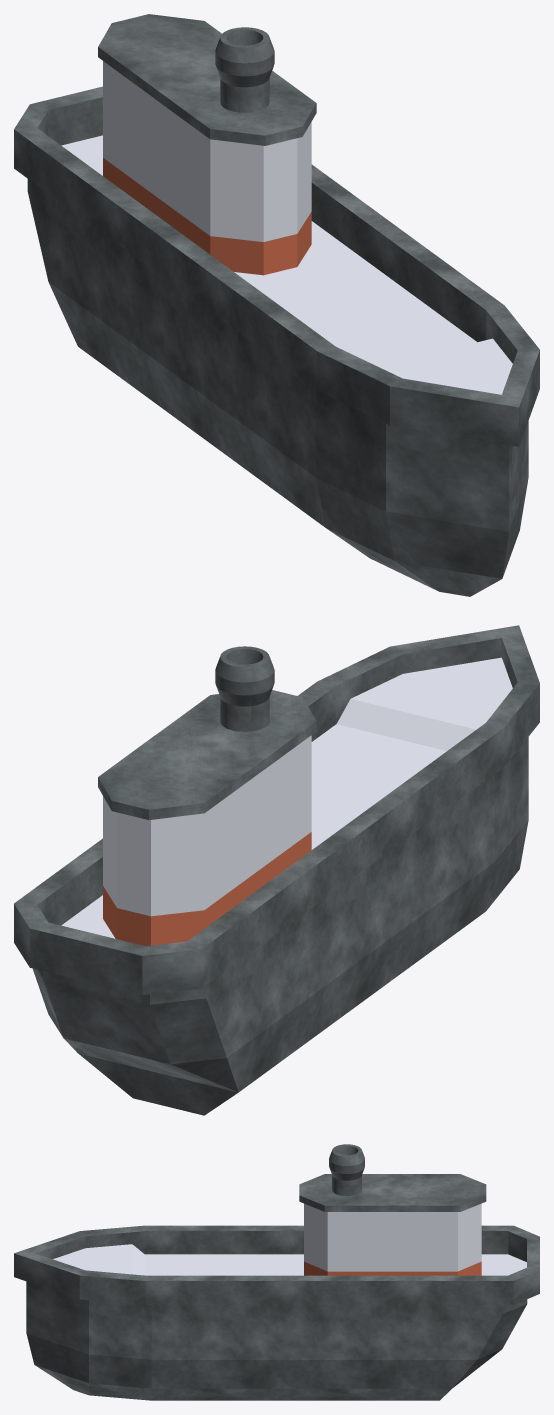
The model's file is Ship.obj.
3 renders of one model, top to bottom at view 1: azimuth 30°, elevation 25°; view 2: azimuth 150°, elevation 25°; view 3: azimuth 270°, elevation 25°, orthographic. The views are drawn at different scales.
Parts seen in each view (by area): view 1: hull, hull_front, hut_hexagon, rail, rail_frontDeck, hut_hexagonRoof, hull_backEdge, rail_backEdge, detail_chimneyShort; view 2: hull, hull_backEdge, hut_hexagon, rail_frontDeck, rail_backEdge, hut_hexagonRoof, rail, hull_front, detail_chimneyShort; view 3: hull, rail, hull_front, hut_hexagon, hull_backEdge, rail_frontDeck, hut_hexagonRoof, rail_backEdge, detail_chimneyShort.
Boxes of the visible parts, x1,y1,x2,y2 form: hull: [110, 221, 476, 527]; hull_front: [316, 390, 528, 596]; hut_hexagon: [103, 61, 311, 275]; rail: [100, 164, 504, 389]; rail_frontDeck: [317, 305, 539, 446]; hut_hexagonRoof: [98, 14, 316, 145]; hull_backEdge: [27, 135, 118, 376]; rail_backEdge: [14, 86, 118, 231]; detail_chimneyShort: [215, 27, 274, 112]; hull: [280, 728, 494, 1061]; hull_backEdge: [32, 895, 288, 1115]; hut_hexagon: [103, 735, 311, 945]; rail_frontDeck: [317, 625, 539, 765]; rail_backEdge: [14, 840, 287, 994]; hut_hexagonRoof: [98, 690, 316, 820]; rail: [101, 681, 504, 924]; hull_front: [331, 724, 528, 910]; detail_chimneyShort: [215, 646, 274, 731]; hull: [151, 1254, 402, 1400]; rail: [145, 1225, 408, 1304]; hull_front: [26, 1254, 151, 1400]; hut_hexagon: [304, 1203, 481, 1275]; hull_backEdge: [402, 1254, 527, 1400]; rail_frontDeck: [14, 1225, 145, 1304]; hut_hexagonRoof: [299, 1174, 486, 1211]; rail_backEdge: [408, 1225, 539, 1304]; detail_chimneyShort: [329, 1144, 364, 1196].
Bounding box in the file's own units: 1.05 × 2.11 × 4.2.
